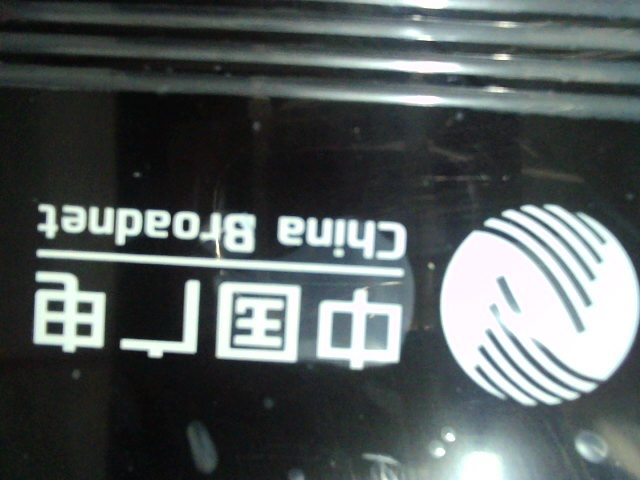AW_ChinaBroadNet: (17, 181, 637, 416)
